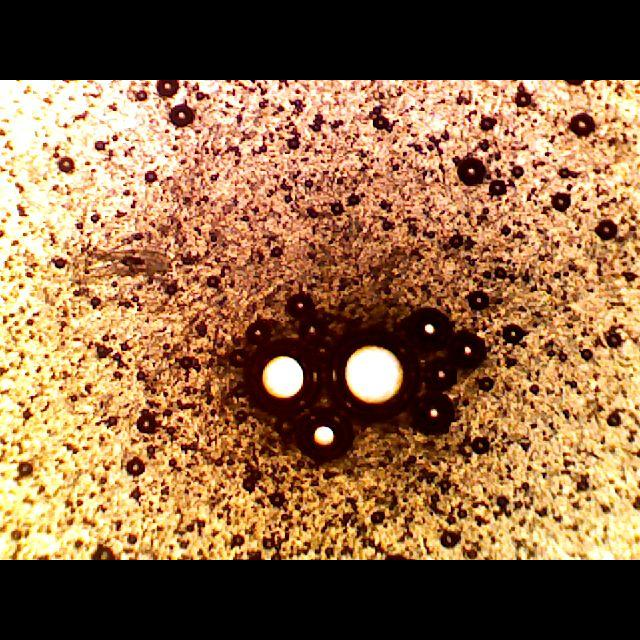microbeads: (236, 338, 324, 426), (291, 403, 359, 462)
